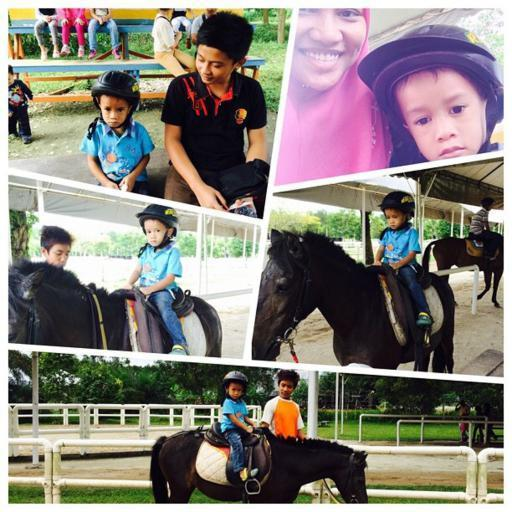horse: (249, 228, 458, 372), (6, 258, 222, 360), (150, 428, 368, 502), (418, 232, 503, 308)
